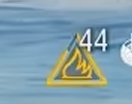1fire: (39, 56, 111, 86)
